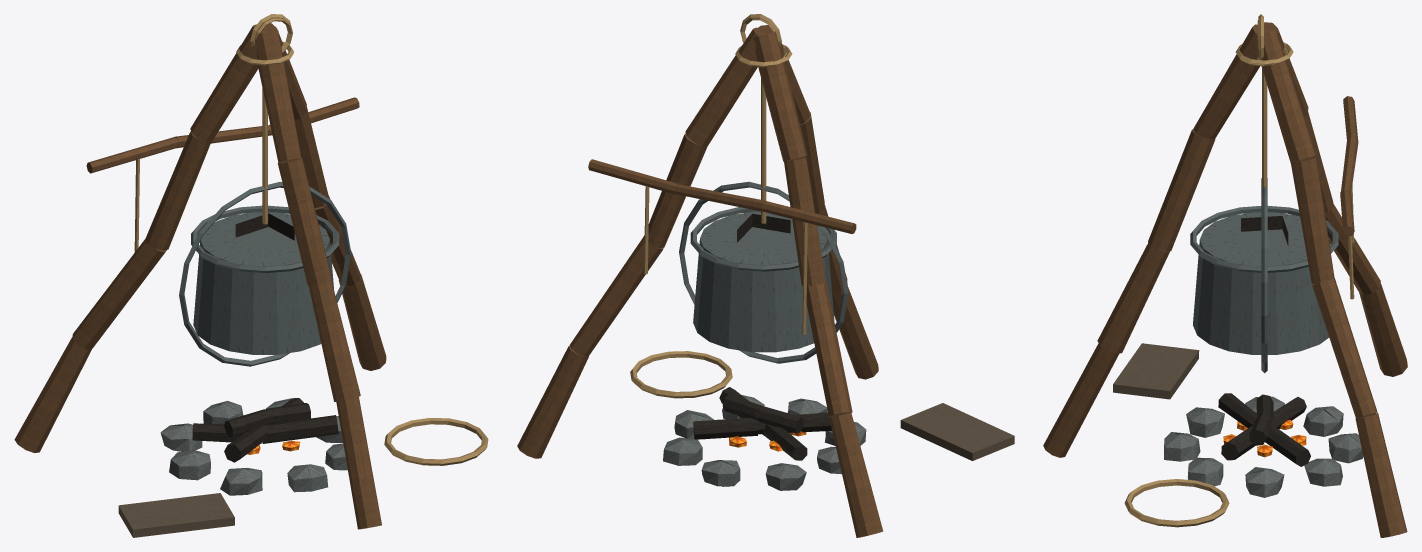
The model's file is en-017_cooking_corner_set__pot.obj.
3 renders of one model, left to right at view 1: azimuth 30°, elevation 25°; view 2: azimuth 150°, elevation 25°; view 3: azimuth 270°, elevation 25°, orthographic.
Parts seen in each view (by area): view 1: en-017_cooking_corner_set__pot; view 2: en-017_cooking_corner_set__pot; view 3: en-017_cooking_corner_set__pot.
Part boxes in pixels (<box>): en-017_cooking_corner_set__pot: <box>14,14,488,537</box>; en-017_cooking_corner_set__pot: <box>517,14,1014,537</box>; en-017_cooking_corner_set__pot: <box>1043,14,1407,537</box>.
Bounding box in the file's own units: 1.24 × 1.41 × 1.04.
Materials: 7 (7 with a texture image).
